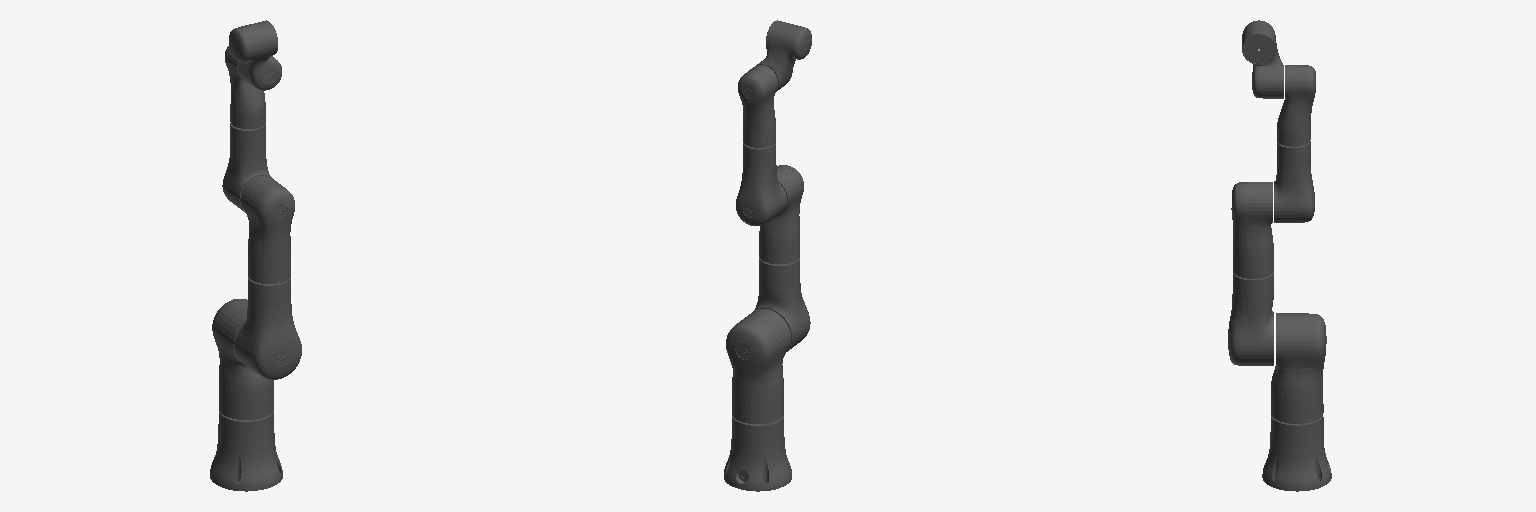
robot.urdf — rizon10s:
<?xml version="1.0"?>
<!-- ======================================================================== -->
<!-- | Flexiv Rizon 10s (with blurred dynamic parameters)                   | -->
<!-- ======================================================================== -->
<robot name="rizon10s">


  <!--<compiler meshdir="./meshes/" strippath="false" balanceinertia="true" discardvisual="false"/>-->


  <mujoco>
    <compiler 
    meshdir="meshes" 
    strippath="false"
    balanceinertia="true" 
    discardvisual="false"
    convexhull="true" />
  </mujoco>




  <joint name="joint1" type="revolute">
    <parent link="base_link" />
    <child link="link1" />
    <origin rpy="0.0 0.0 -3.141592653589793" xyz="0.0 0.0 0.21" />
    <axis xyz="0 0 1" />
    <limit effort="261" lower="-2.7925" upper="2.7925" velocity="1.7453" />
  </joint>
  <joint name="joint2" type="revolute">
    <parent link="link1" />
    <child link="link2" />
    <origin rpy="0.0 0.0 0.0" xyz="0.0 0.0675 0.24" />
    <axis xyz="0 1 0" />
    <limit effort="261" lower="-2.6704" upper="2.6704" velocity="1.7453" />
  </joint>
  <joint name="joint3" type="revolute">
    <parent link="link2" />
    <child link="link3" />
    <origin rpy="0.0 0.0 0.0" xyz="0.0 0.0625 0.2275" />
    <axis xyz="0 0 1" />
    <limit effort="123" lower="-2.7925" upper="2.7925" velocity="2.0944" />
  </joint>
  <joint name="joint4" type="revolute">
    <parent link="link3" />
    <child link="link4" />
    <origin rpy="0.0 0.0 -3.141592653589793" xyz="0.0 -0.0625 0.2225" />
    <axis xyz="0 1 0" />
    <limit effort="123" lower="-2.7053" upper="2.7053" velocity="2.0944" />
  </joint>
  <joint name="joint5" type="revolute">
    <parent link="link4" />
    <child link="link5" />
    <origin rpy="0.0 0.0 -3.141592653589793" xyz="0.0 0.0575 0.205" />
    <axis xyz="0 0 1" />
    <limit effort="57" lower="-2.9671" upper="2.9671" velocity="3.8397" />
  </joint>
  <joint name="joint6" type="revolute">
    <parent link="link5" />
    <child link="link6" />
    <origin rpy="0.0 0.0 0.0" xyz="0.0 0.03 0.19" />
    <axis xyz="0 1 0" />
    <limit effort="57" lower="-1.3963" upper="4.5379" velocity="3.8397" />
  </joint>
  <joint name="joint7" type="revolute">
    <parent link="link6" />
    <child link="link7" />
    <origin rpy="0.0 -1.5707963478683205 0.0" xyz="-0.015 0.073 0.11" />
    <axis xyz="0 0 1" />
    <limit effort="57" lower="-2.9671" upper="2.9671" velocity="3.8397" />
  </joint>
  <joint name="link7_to_flange" type="fixed">
    <parent link="link7" />
    <child link="flange" />
    <origin rpy="0.0 0.0 -3.141592653589793" xyz="0.0 0.0 0.124" />
  </joint>

  <link name="base_link">
    <inertial>
      <mass value="9.2" />
      <origin rpy="0 0 0" xyz="0.0 -0.0 0.13" />
      <inertia ixx="0.08" ixy="0.0" ixz="-0.0" iyy="0.08" iyz="0.0" izz="0.04" />
    </inertial>
    <visual name="shell-0">
      <origin rpy="0 0 0" xyz="0 0 0" />
      <geometry>
        <mesh filename="rizon10s/visual/v_link0.obj" />
      </geometry>
      <material name="rizon_dark_grey" />
    </visual>
    <collision name="hull-0">
      <origin rpy="0 0 0" xyz="0 0 0" />
      <geometry>
        <mesh filename="rizon10s/collision/c_link0.stl" />
      </geometry>
    </collision>
  </link>
  <link name="link1">
    <inertial>
      <mass value="9.7" />
      <origin rpy="0 0 0" xyz="0.0 0.03 0.16" />
      <inertia ixx="0.18" ixy="0.0" ixz="0.0" iyy="0.17" iyz="0.02" izz="0.04" />
    </inertial>
    <visual name="shell-1">
      <origin rpy="0 0 0" xyz="0 0 0" />
      <geometry>
        <mesh filename="rizon10s/visual/v_link1.obj" />
      </geometry>
      <material name="rizon_dark_grey" />
    </visual>
    <visual name="ring-1">
      <origin rpy="0 0 0" xyz="0 0 -0.0025" />
      <geometry>
        <mesh filename="rizon10s/visual/v_ring_s1.obj" scale="0.079 0.079 0.002" />
      </geometry>
      <material name="rizon_white" />
    </visual>
    <collision name="hull-1">
      <origin rpy="0 0 0" xyz="0 0 0" />
      <geometry>
        <mesh filename="rizon10s/collision/c_link1.stl" />
      </geometry>
    </collision>
  </link>
  <link name="link2">
    <inertial>
      <mass value="6.2" />
      <origin rpy="0 0 0" xyz="0.0 0.03 0.11" />
      <inertia ixx="0.1" ixy="0.0" ixz="0.0" iyy="0.08" iyz="0.02" izz="0.03" />
    </inertial>
    <visual name="shell-2">
      <origin rpy="0 0 0" xyz="0 0 0" />
      <geometry>
        <mesh filename="rizon10s/visual/v_link2.obj" />
      </geometry>
      <material name="rizon_dark_grey" />
    </visual>
    <visual name="ring-2">
      <origin rpy="1.5707963 0 0" xyz="0 -0.0025 0" />
      <geometry>
        <mesh filename="rizon10s/visual/v_ring_s2.obj" scale="0.079 0.079 0.002" />
      </geometry>
      <material name="rizon_white" />
    </visual>
    <collision name="hull-2">
      <origin rpy="0 0 0" xyz="0 0 0" />
      <geometry>
        <mesh filename="rizon10s/collision/c_link2.stl" />
      </geometry>
    </collision>
  </link>
  <link name="link3">
    <inertial>
      <mass value="4.6" />
      <origin rpy="0 0 0" xyz="0.0 -0.03 0.17" />
      <inertia ixx="0.04" ixy="-0.0" ixz="-0.0" iyy="0.03" iyz="-0.01" izz="0.01" />
    </inertial>
    <visual name="shell-3">
      <origin rpy="0 0 0" xyz="0 0 0" />
      <geometry>
        <mesh filename="rizon10s/visual/v_link3.obj" />
      </geometry>
      <material name="rizon_dark_grey" />
    </visual>
    <visual name="ring-3">
      <origin rpy="0 0 0" xyz="0 0 -0.0025" />
      <geometry>
        <mesh filename="rizon10s/visual/v_ring_s3.obj" scale="0.062 0.062 0.002" />
      </geometry>
      <material name="rizon_white" />
    </visual>
    <collision name="hull-3">
      <origin rpy="0 0 0" xyz="0 0 0" />
      <geometry>
        <mesh filename="rizon10s/collision/c_link3.stl" />
      </geometry>
    </collision>
  </link>
  <link name="link4">
    <inertial>
      <mass value="3.0" />
      <origin rpy="0 0 0" xyz="-0.0 0.05 0.1" />
      <inertia ixx="0.03" ixy="0.0" ixz="0.0" iyy="0.03" iyz="0.0" izz="0.01" />
    </inertial>
    <visual name="shell-4">
      <origin rpy="0 0 0" xyz="0 0 0" />
      <geometry>
        <mesh filename="rizon10s/visual/v_link4.obj" />
      </geometry>
      <material name="rizon_dark_grey" />
    </visual>
    <visual name="ring-4">
      <origin rpy="1.5707963 0 0" xyz="0 -0.0025 0" />
      <geometry>
        <mesh filename="rizon10s/visual/v_ring_s4.obj" scale="0.062 0.062 0.002" />
      </geometry>
      <material name="rizon_white" />
    </visual>
    <collision name="hull-4">
      <origin rpy="0 0 0" xyz="0 0 0" />
      <geometry>
        <mesh filename="rizon10s/collision/c_link4.stl" />
      </geometry>
    </collision>
  </link>
  <link name="link5">
    <inertial>
      <mass value="2.4" />
      <origin rpy="0 0 0" xyz="0.0 0.01 0.13" />
      <inertia ixx="0.01" ixy="0.0" ixz="0.0" iyy="0.01" iyz="0.0" izz="0.001" />
    </inertial>
    <visual name="shell-5">
      <origin rpy="0 0 0" xyz="0 0 0" />
      <geometry>
        <mesh filename="rizon10s/visual/v_link5.obj" />
      </geometry>
      <material name="rizon_dark_grey" />
    </visual>
    <visual name="ring-5">
      <origin rpy="0 0 0" xyz="0 0 -0.0025" />
      <geometry>
        <mesh filename="rizon10s/visual/v_ring_s5.obj" scale="0.051 0.051 0.002" />
      </geometry>
      <material name="rizon_white" />
    </visual>
    <collision name="hull-5">
      <origin rpy="0 0 0" xyz="0 0 0" />
      <geometry>
        <mesh filename="rizon10s/collision/c_link5.stl" />
      </geometry>
    </collision>
  </link>
  <link name="link6">
    <inertial>
      <mass value="2.3" />
      <origin rpy="0 0 0" xyz="0.02 0.06 0.07" />
      <inertia ixx="0.01" ixy="0.0" ixz="0.0" iyy="0.01" iyz="0.0" izz="0.001" />
    </inertial>
    <visual name="shell-6">
      <origin rpy="0 0 0" xyz="0 0 0" />
      <geometry>
        <mesh filename="rizon10s/visual/v_link6.obj" />
      </geometry>
      <material name="rizon_dark_grey" />
    </visual>
    <visual name="ring-6">
      <origin rpy="1.5707963 0 0" xyz="0 -0.0025 0" />
      <geometry>
        <mesh filename="rizon10s/visual/v_ring_s6.obj" scale="0.051 0.051 0.002" />
      </geometry>
      <material name="rizon_white" />
    </visual>
    <collision name="hull-6">
      <origin rpy="0 0 0" xyz="0 0 0" />
      <geometry>
        <mesh filename="rizon10s/collision/c_link6.stl" />
      </geometry>
    </collision>
  </link>
  <link name="link7">
    <inertial>
      <mass value="1.5" />
      <origin rpy="0 0 0" xyz="0.0 0.0 0.05" />
      <!--note: i changed inertia from 0.01 to 0.001 because mujoco simulation was unstable-->
      <inertia ixx="0.01" ixy="0.0" ixz="0.0" iyy="0.01" iyz="0.0" izz="0.01" />
    </inertial>
    <visual name="shell-7">
      <origin rpy="0 0 0" xyz="0 0 0" />
      <geometry>
        <mesh filename="rizon10s/visual/v_link7.obj" />
      </geometry>
      <material name="rizon_dark_grey" />
    </visual>
    <visual name="ring-7">
      <origin rpy="0 0 0" xyz="0 0 -0.0025" />
      <geometry>
        <mesh filename="rizon10s/visual/v_ring_s7.obj" scale="0.051 0.051 0.002" />
      </geometry>
      <material name="rizon_white" />
    </visual>
    <collision name="hull-7">
      <origin rpy="0 0 0" xyz="0 0 0" />
      <geometry>
        <mesh filename="rizon10s/collision/c_link7.stl" />
      </geometry>
    </collision>
  </link>
  <link name="flange" />

  <material name="rizon_light_grey">
    <color rgba="0.7 0.7 0.7 1.0" />
  </material>
  <material name="rizon_dark_grey">
    <color rgba="0.4 0.4 0.4 1.0" />
  </material>
  <material name="rizon_white">
    <color rgba="1.0 1.0 1.0 1.0" />
  </material>
</robot>

--- Render facts (derived) ---
Views: 3 orthographic renders of the robot side by side, from view 1: azimuth 30°, elevation 25°; view 2: azimuth 150°, elevation 25°; view 3: azimuth 270°, elevation 25°.
Robot: rizon10s — 9 links, 8 joints (7 revolute, 1 fixed); root link base_link; default pose: every joint at zero.
Links seen in each view (by area): view 1: link2, link3, base_link, link1, link6, link4, link5; view 2: link1, base_link, link4, link2, link3, link5, link6; view 3: link1, base_link, link3, link2, link4, link5, link6.
Boxes of the visible links, x1=… form: link2: x1=234, y1=277, x2=301, y2=379; link3: x1=240, y1=176, x2=294, y2=283; base_link: x1=210, y1=411, x2=282, y2=491; link1: x1=212, y1=299, x2=273, y2=419; link6: x1=229, y1=20, x2=281, y2=90; link4: x1=222, y1=123, x2=271, y2=210; link5: x1=225, y1=46, x2=265, y2=128; link1: x1=726, y1=309, x2=790, y2=423; base_link: x1=724, y1=416, x2=791, y2=491; link4: x1=736, y1=143, x2=786, y2=225; link2: x1=753, y1=257, x2=810, y2=351; link3: x1=759, y1=165, x2=803, y2=263; link5: x1=738, y1=65, x2=777, y2=147; link6: x1=756, y1=20, x2=811, y2=91; link1: x1=1271, y1=313, x2=1326, y2=423; base_link: x1=1262, y1=416, x2=1331, y2=491; link3: x1=1231, y1=182, x2=1273, y2=278; link2: x1=1228, y1=272, x2=1273, y2=365; link4: x1=1274, y1=141, x2=1314, y2=222; link5: x1=1277, y1=65, x2=1315, y2=146; link6: x1=1242, y1=20, x2=1283, y2=98.
Bounding box of the posed robot: 0.2085 × 0.3073 × 1.45 m (x, y, z).
Meshes: 15 distinct files referenced, 10 mesh visuals loaded (10 OBJ); not drawn: 5 (reference not matched to a file when rendering).